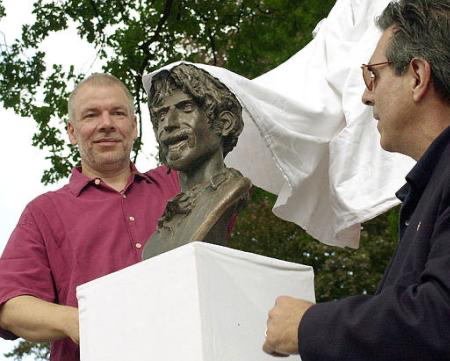Face: (361, 26, 422, 157), (67, 87, 138, 168)
